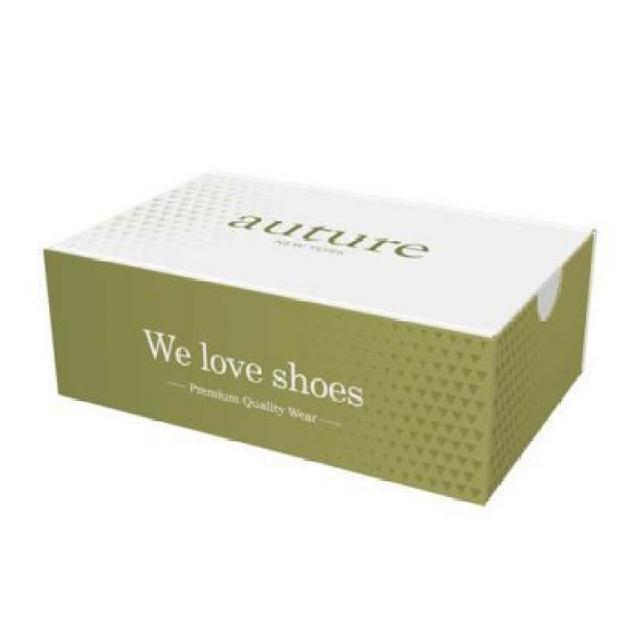box: (43, 166, 590, 505)
